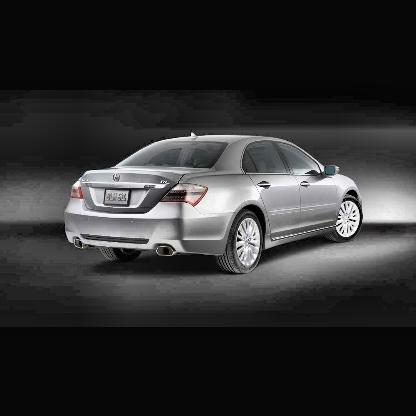Acura RL Sedan 2012: (63, 132, 365, 274)
